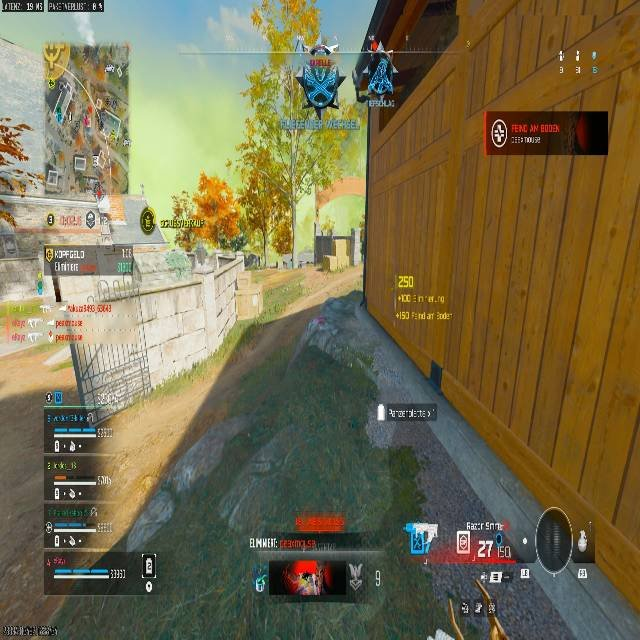player: (297, 41, 341, 117)
